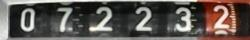digits: (210, 3, 232, 32), (92, 6, 112, 31), (134, 6, 152, 31), (174, 6, 191, 32), (56, 6, 73, 32), (20, 7, 36, 31)
